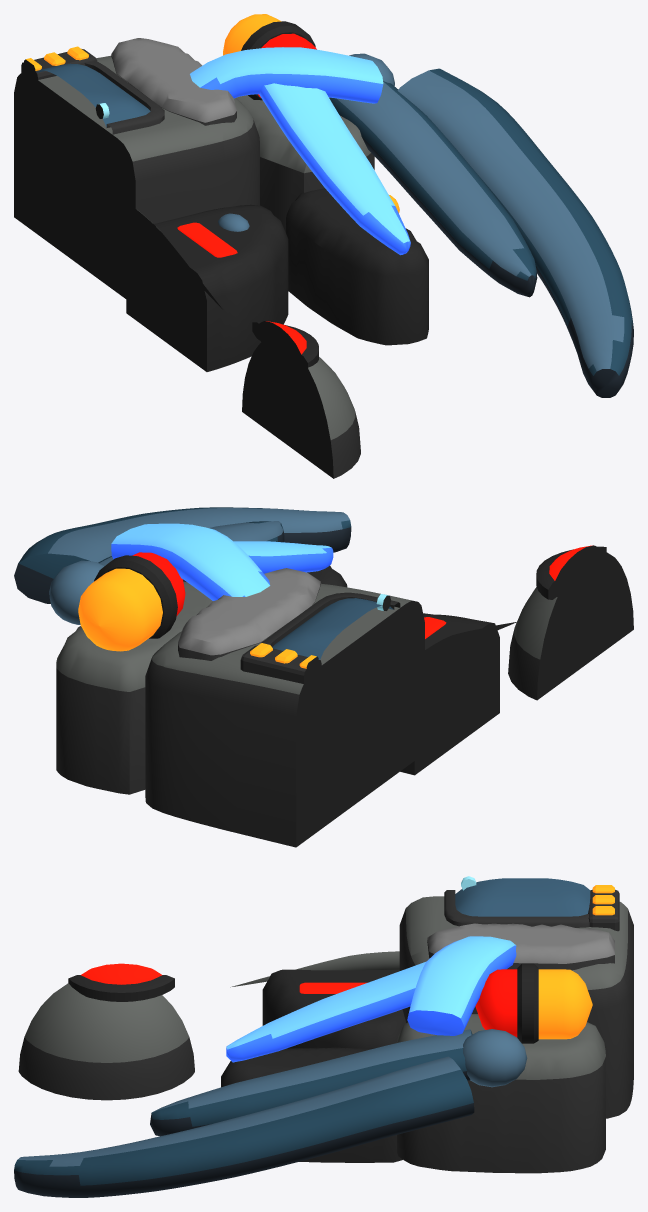
The model's file is walker_right.glb.
3 views of the same model, one above another, from view 1: azimuth 30°, elevation 25°; view 2: azimuth 150°, elevation 25°; view 3: azimuth 270°, elevation 25° (orthographic). The views are drawn at different scales.
Parts seen in each view (by area): view 1: hull.001, leg_outer.002, neck.001, strut.002, leg_inner.002, dome.001, fin_blade.002, fin_bar.002, panel.002, shoulder.002, canopy.001, lamp.002 (+7 smaller); view 2: hull.001, shoulder.002, dome.001, leg_outer.002, neck.001, panel.002, fin_bar.002, lamp.002, canopy.001, fin_blade.002, knee.002, lamp_collar.002 (+6 smaller); view 3: leg_outer.002, shoulder.002, dome.001, leg_inner.002, hull.001, fin_bar.002, fin_blade.002, lamp.002, panel.002, neck.001, canopy.001, strut.002 (+8 smaller).
Boxes of the visible parts, x1,y1,x2,y2 form: hull.001: (14,55,259,305); leg_outer.002: (397,68,633,397); neck.001: (126,204,288,371); strut.002: (286,188,428,345); leg_inner.002: (329,81,537,297); dome.001: (242,338,360,478); fin_blade.002: (259,83,410,255); fin_bar.002: (190,47,383,103); panel.002: (111,38,236,125); shoulder.002: (236,95,374,232); canopy.001: (37,63,150,127); lamp.002: (223,14,316,97); hull.001: (145,583,424,847); shoulder.002: (56,581,212,794); dome.001: (508,551,633,700); leg_outer.002: (14,507,351,603); neck.001: (400,613,499,775); panel.002: (178,568,320,660); fin_bar.002: (111,523,270,600); lamp.002: (78,552,185,651); canopy.001: (272,598,393,659); fin_blade.002: (234,541,333,573); knee.002: (49,560,104,624); lamp_collar.002: (94,555,177,638); leg_outer.002: (14,1056,474,1197); shoulder.002: (396,1014,605,1173); dome.001: (18,983,194,1100); leg_inner.002: (150,1029,472,1136); hull.001: (399,896,633,1118); fin_bar.002: (407,936,516,1035); fin_blade.002: (226,961,426,1062); lamp.002: (475,969,592,1039); panel.002: (427,923,614,970); neck.001: (262,969,405,1048); canopy.001: (455,878,590,916); strut.002: (221,1047,402,1162).
Size of the model in its own units: 16.81 by 9.15 by 25.27.
